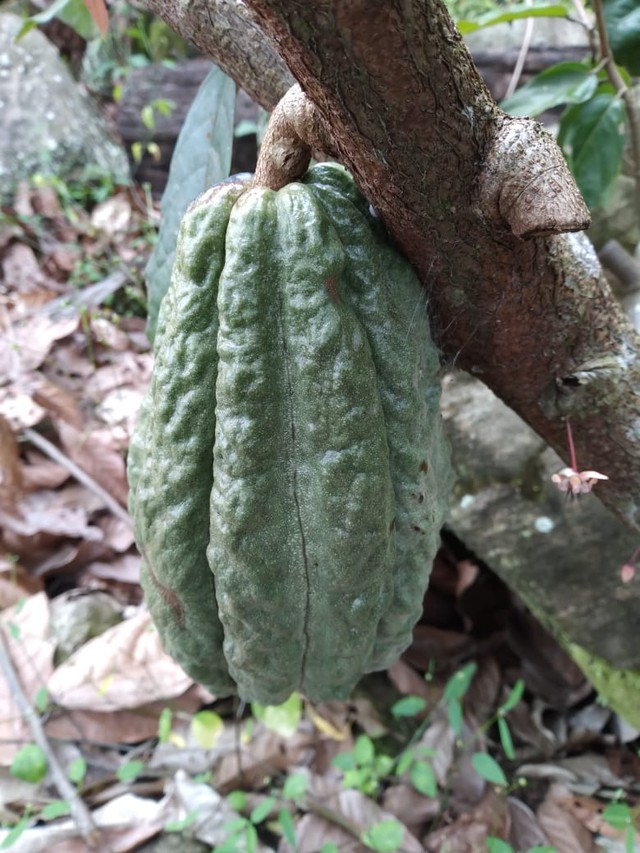Health: (121, 153, 459, 716)
